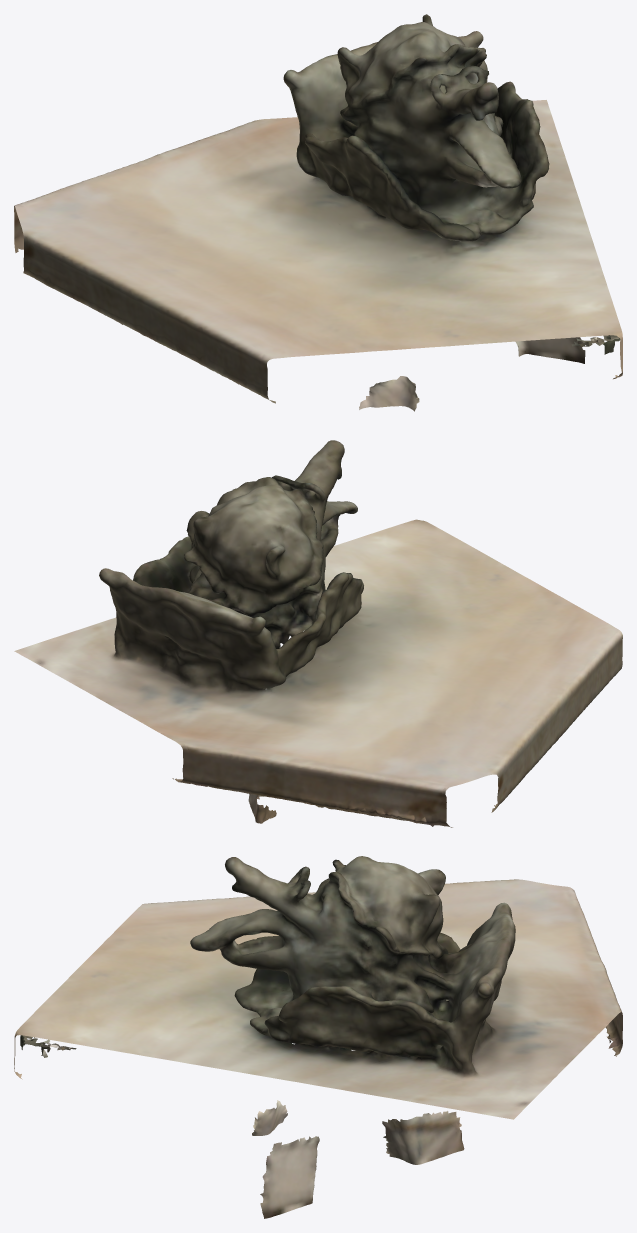
Rendered from loup.glb.
The picture shows the model from 3 angles, top to bottom: view 1: azimuth 30°, elevation 25°; view 2: azimuth 150°, elevation 25°; view 3: azimuth 270°, elevation 25°; orthographic projection. The views are drawn at different scales.
Visible parts, largest first — view 1: Model; view 2: Model; view 3: Model.
Part boxes in pixels (x1,y1,x2,y2): Model: [14, 14, 622, 411]; Model: [14, 440, 622, 827]; Model: [14, 856, 622, 1218].
Size of the model in its own units: 0.5294 by 0.3081 by 0.5514.
Materials: 1 (1 with a texture image).
